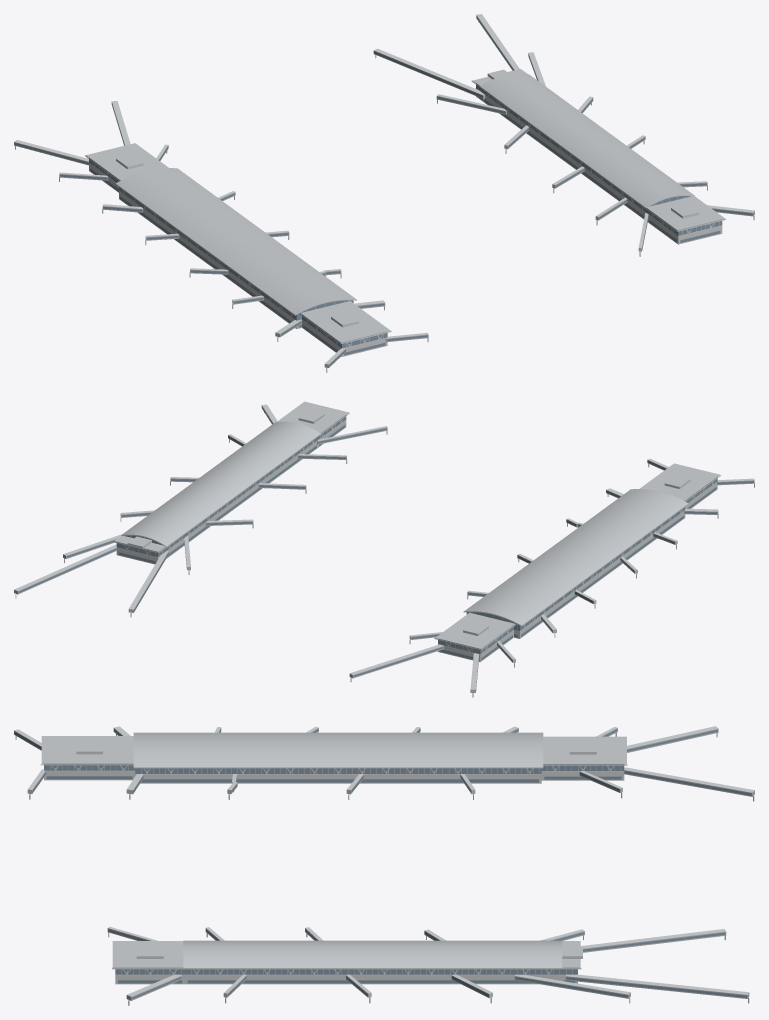
Rendered from london-heathrow-terminal-5-satellites.detail.glb.
3 views of the same model, one above another, from view 1: azimuth 30°, elevation 25°; view 2: azimuth 150°, elevation 25°; view 3: azimuth 270°, elevation 25° (orthographic). The views are drawn at different scales.
Parts seen in each view (by area): view 1: Heathrow Terminal 5B and 5C; view 2: Heathrow Terminal 5B and 5C; view 3: Heathrow Terminal 5B and 5C.
Boxes of the visible parts, bbox=[...] form: Heathrow Terminal 5B and 5C: bbox=[14, 14, 754, 372]; Heathrow Terminal 5B and 5C: bbox=[14, 401, 754, 697]; Heathrow Terminal 5B and 5C: bbox=[14, 726, 754, 1005].
Bounding box in the file's own units: 478 × 19.5 × 553.
